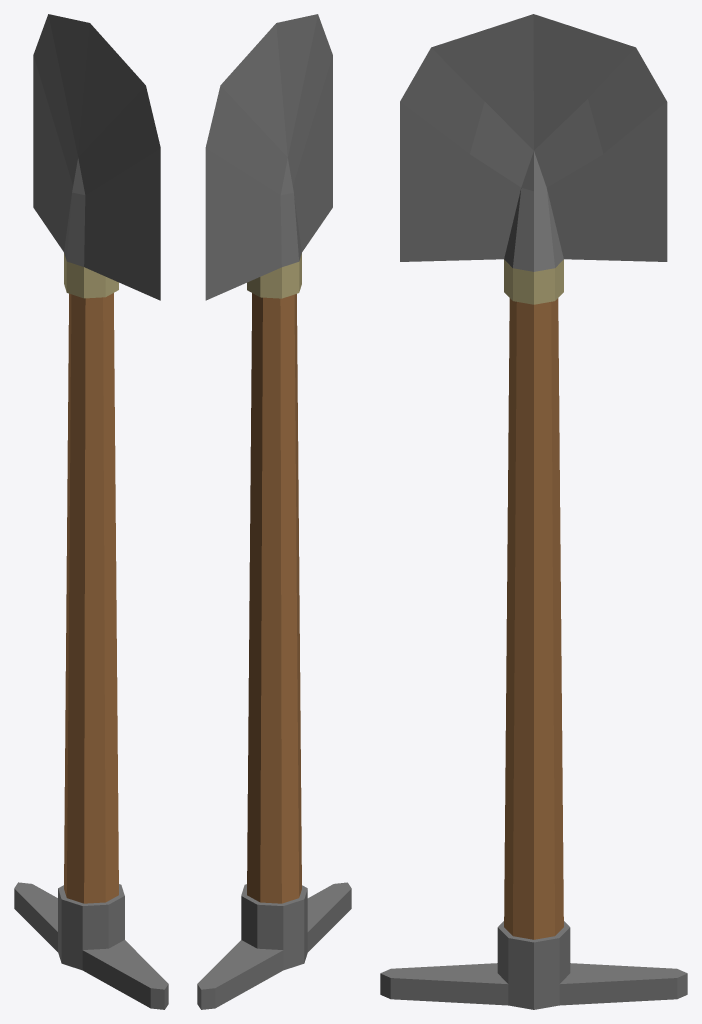
File: melee-shovel.glb
The picture shows the model from 3 angles, left to right: view 1: azimuth 30°, elevation 25°; view 2: azimuth 150°, elevation 25°; view 3: azimuth 270°, elevation 25°; orthographic projection. The views are drawn at different scales.
Visible parts, largest first — view 1: Pelle; view 2: Pelle; view 3: Pelle.
Boxes of the visible parts, bbox=[...] form: Pelle: bbox=[14, 14, 168, 1009]; Pelle: bbox=[197, 14, 351, 1009]; Pelle: bbox=[380, 14, 687, 1009].
Size of the model in its own units: 64.6 by 964 by 274.
